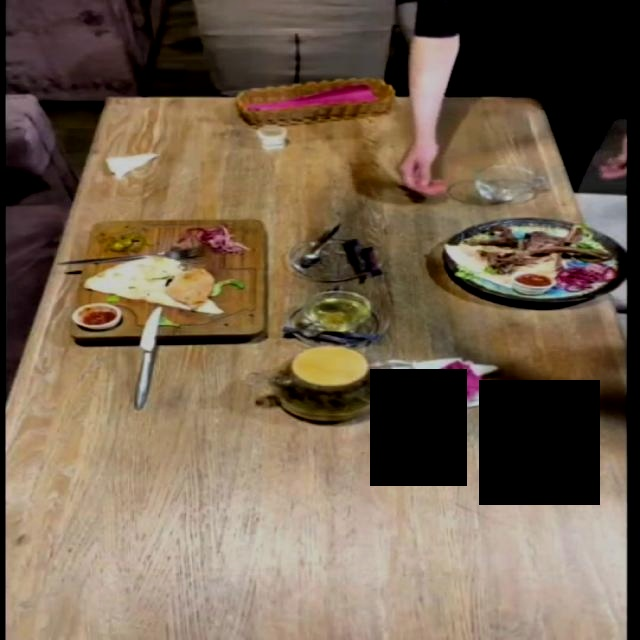meat: (414, 181, 611, 344), (70, 220, 270, 340)
tea: (267, 344, 385, 422)
